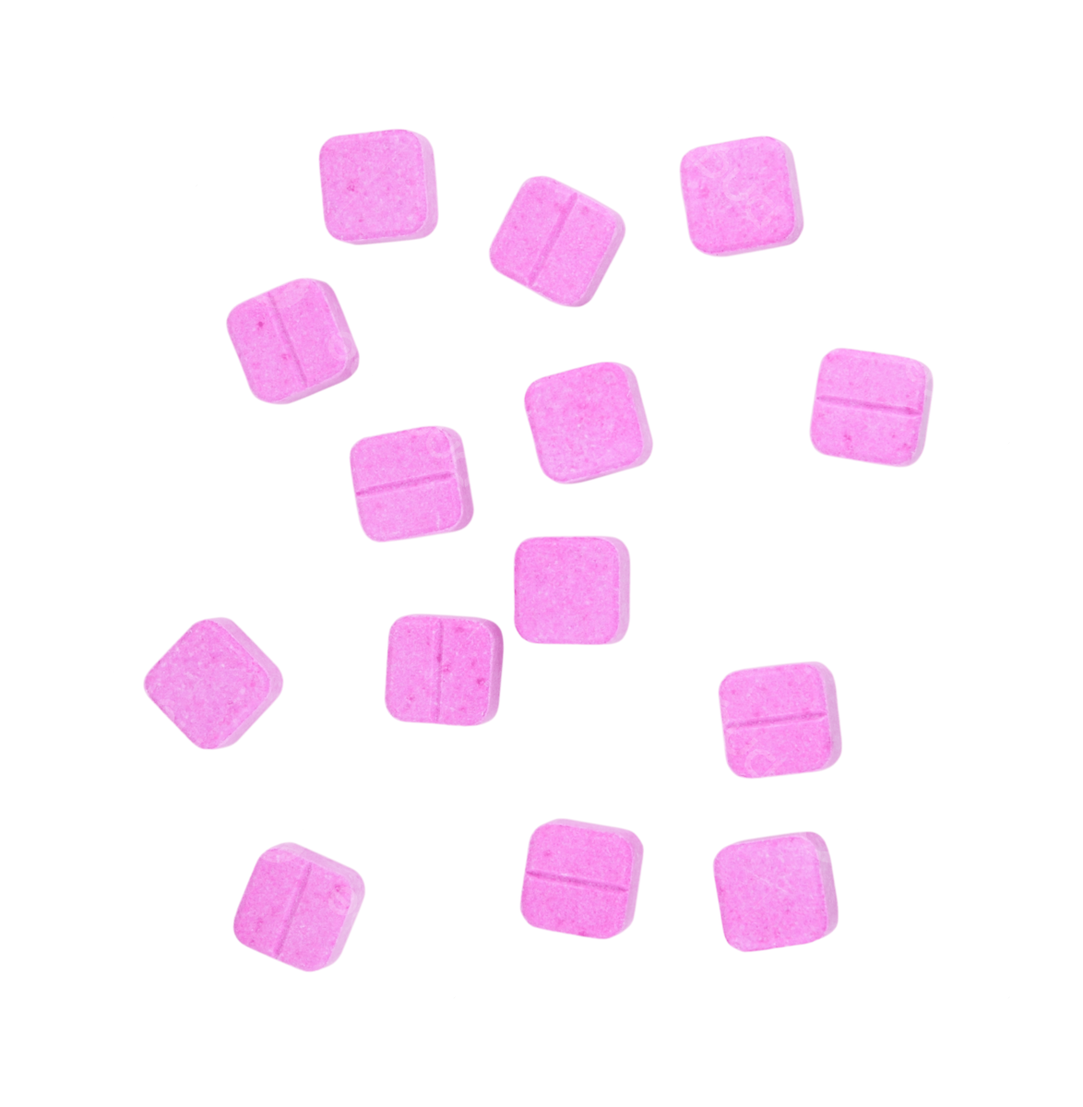Square: (141, 615, 288, 753), (486, 173, 629, 313), (231, 840, 369, 975), (226, 275, 363, 407), (517, 819, 647, 950), (523, 359, 653, 485), (712, 831, 844, 955), (807, 345, 934, 471), (716, 660, 845, 783), (681, 135, 808, 259), (346, 424, 474, 542), (507, 533, 637, 648), (317, 131, 440, 249), (380, 612, 506, 727)
